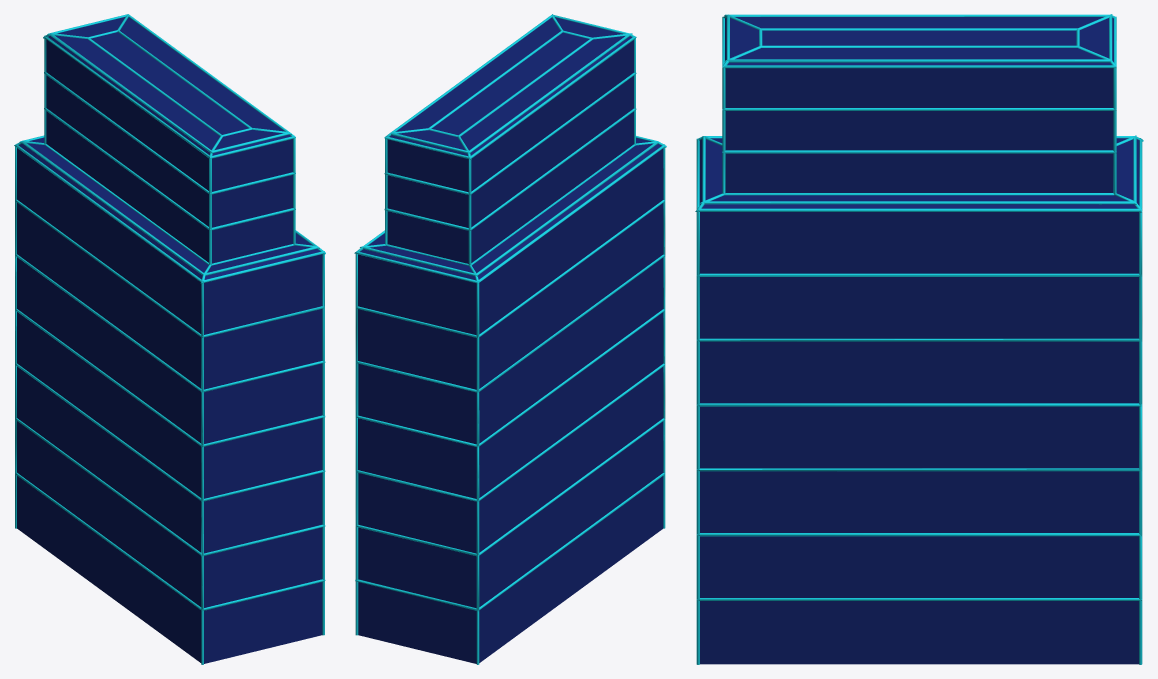
Rendered from Torre05_Mapa01.FBX.
3 views of the same model, side by side, from view 1: azimuth 30°, elevation 25°; view 2: azimuth 150°, elevation 25°; view 3: azimuth 270°, elevation 25° (orthographic). The views are drawn at different scales.
Parts seen in each view (by area): view 1: Box009, Shape009; view 2: Box009, Shape009; view 3: Box009, Shape009.
Part boxes in pixels (<box>): Box009: <box>17,17,322,663</box>; Shape009: <box>14,14,325,664</box>; Box009: <box>358,17,663,663</box>; Shape009: <box>354,14,666,664</box>; Box009: <box>699,17,1139,664</box>; Shape009: <box>695,14,1143,664</box>.
Size of the model in its own units: 104 by 394 by 270.
